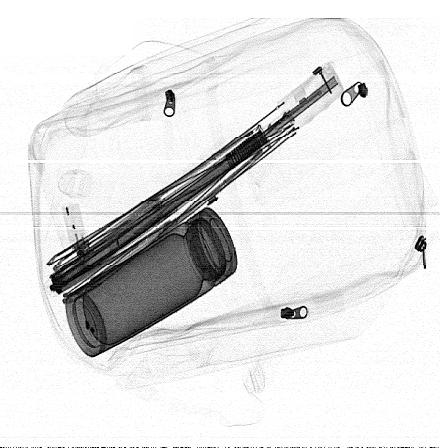Lighter: (62, 205, 90, 260)
